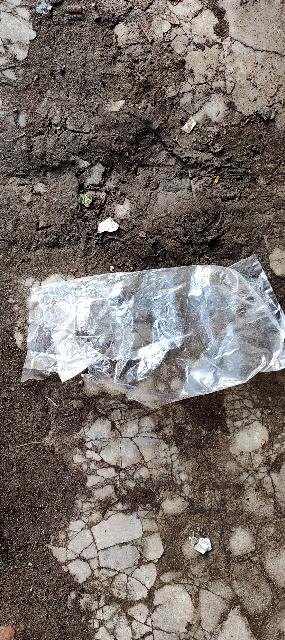polythene: (22, 255, 285, 392)
